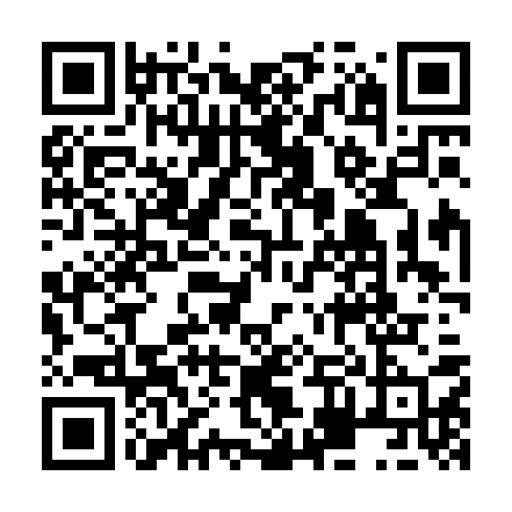qr_code: (42, 41, 471, 471)
